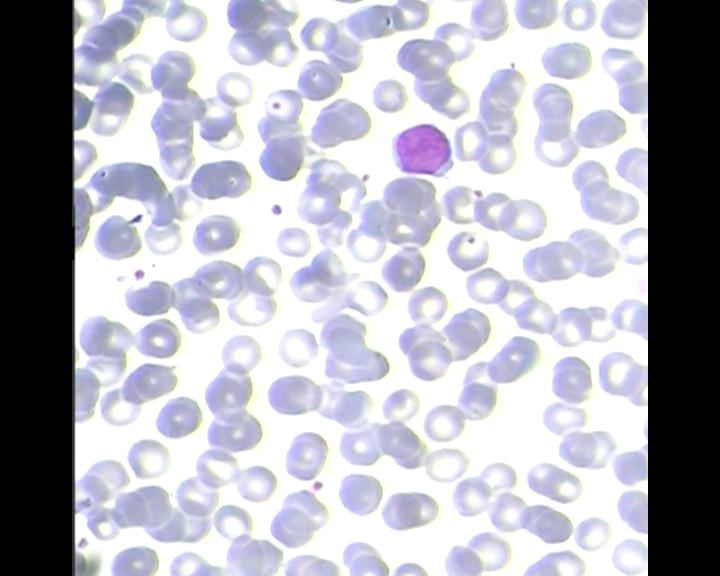lymp: (389, 119, 454, 182)
